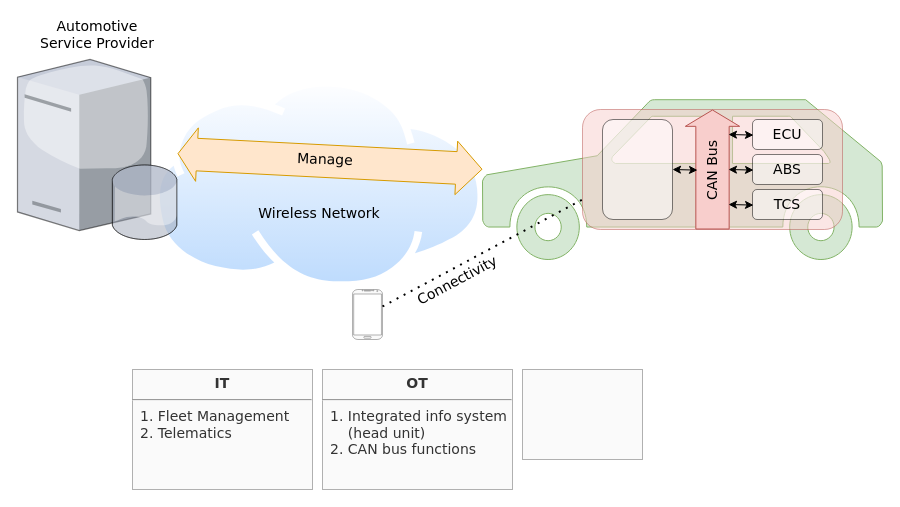
This 900x507 diagram has some shape labels left out. The centre of each missing label's shape, as x and y in pixels:
"Embedded 1. ECU 2. ABS 3. TCS" belongs at [582,414].
"Head Unit" belongs at [637,169].
